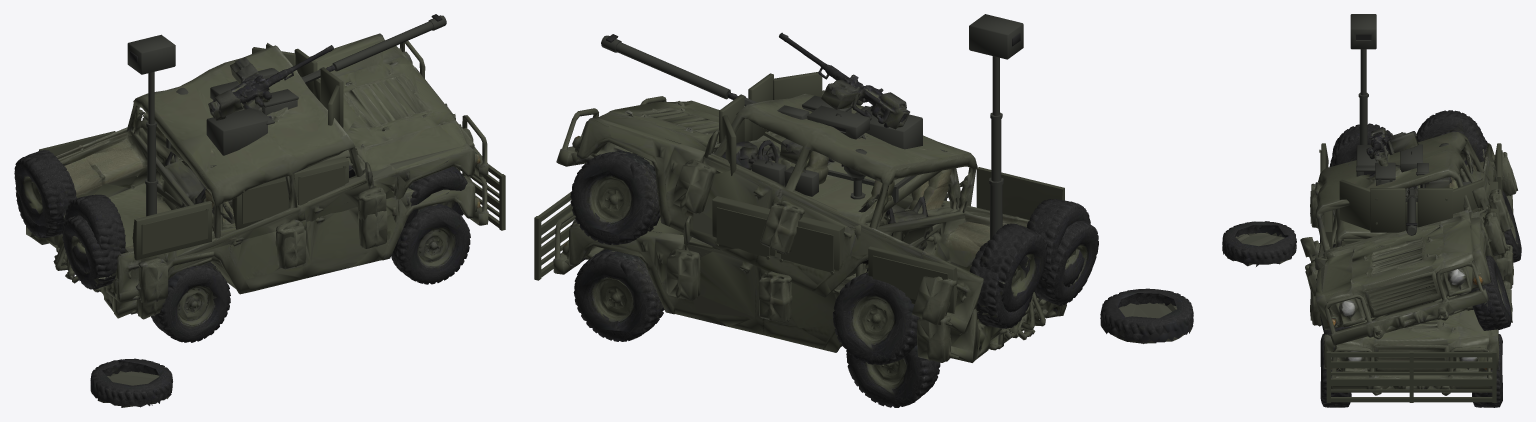
The model's file is jeep_shoded.glb.
3 renders of one model, left to right at view 1: azimuth 30°, elevation 25°; view 2: azimuth 150°, elevation 25°; view 3: azimuth 270°, elevation 25°, orthographic. The views are drawn at different scales.
Visible parts, largest first — view 1: WRECK_hull_hull, hull_rubber, WRECK_hull_rubber, hull_hull, kit_armour_3_hull_hull, kit_armour_1_hull_hull, kit_sensors_3_hull_hull, WRECK_hull_metal, kit_sensors_2_hull_hull, kit_armour_2_hull_metal, kit_firepower_3_hull_metal, kit_firepower_2_hull_metal; view 2: WRECK_hull_hull, WRECK_hull_rubber, hull_hull, hull_rubber, kit_armour_3_hull_hull, kit_armour_1_hull_hull, kit_sensors_3_hull_hull, kit_armour_2_hull_metal, WRECK_hull_metal, kit_firepower_3_hull_metal, kit_sensors_2_hull_hull, WRECK_hull_plate (+2 smaller); view 3: WRECK_hull_hull, hull_hull, WRECK_hull_rubber, kit_armour_2_hull_metal, kit_armour_3_hull_hull, hull_rubber, kit_armour_3_hull_hull_far, kit_armour_3_hull_hull_near, kit_sensors_3_hull_hull, WRECK_hull_metal, kit_firepower_3_hull_metal, kit_sensors_2_hull_hull (+5 smaller).
Boxes of the visible parts, x1=… form: WRECK_hull_hull: x1=14, y1=39, x2=484, y2=311; hull_rubber: x1=16, y1=179, x2=488, y2=342; WRECK_hull_rubber: x1=14, y1=33, x2=488, y2=407; hull_hull: x1=15, y1=119, x2=485, y2=330; kit_armour_3_hull_hull: x1=39, y1=131, x2=505, y2=260; kit_armour_1_hull_hull: x1=142, y1=118, x2=348, y2=229; kit_sensors_3_hull_hull: x1=127, y1=34, x2=175, y2=216; WRECK_hull_metal: x1=208, y1=45, x2=333, y2=120; kit_sensors_2_hull_hull: x1=166, y1=108, x2=274, y2=167; kit_armour_2_hull_metal: x1=252, y1=47, x2=343, y2=127; kit_firepower_3_hull_metal: x1=210, y1=14, x2=446, y2=99; kit_firepower_2_hull_metal: x1=254, y1=67, x2=325, y2=115; WRECK_hull_hull: x1=567, y1=90, x2=1098, y2=362; WRECK_hull_rubber: x1=556, y1=99, x2=1193, y2=364; hull_hull: x1=559, y1=134, x2=1090, y2=393; hull_rubber: x1=553, y1=203, x2=1029, y2=407; kit_armour_3_hull_hull: x1=534, y1=167, x2=1064, y2=313; kit_armour_1_hull_hull: x1=712, y1=196, x2=946, y2=274; kit_sensors_3_hull_hull: x1=969, y1=14, x2=1023, y2=239; kit_armour_2_hull_metal: x1=719, y1=71, x2=822, y2=175; WRECK_hull_metal: x1=779, y1=32, x2=909, y2=129; kit_firepower_3_hull_metal: x1=601, y1=34, x2=869, y2=139; kit_sensors_2_hull_hull: x1=807, y1=105, x2=947, y2=202; WRECK_hull_plate: x1=760, y1=200, x2=804, y2=254; WRECK_hull_hull: x1=1300, y1=110, x2=1505, y2=344; hull_hull: x1=1311, y1=123, x2=1507, y2=407; WRECK_hull_rubber: x1=1222, y1=143, x2=1521, y2=349; kit_armour_2_hull_metal: x1=1339, y1=179, x2=1483, y2=232; kit_armour_3_hull_hull: x1=1319, y1=143, x2=1502, y2=402; hull_rubber: x1=1310, y1=182, x2=1513, y2=407; kit_armour_3_hull_hull_far: x1=1331, y1=361, x2=1492, y2=385; kit_armour_3_hull_hull_near: x1=1331, y1=364, x2=1492, y2=392; kit_sensors_3_hull_hull: x1=1350, y1=14, x2=1376, y2=144; WRECK_hull_metal: x1=1366, y1=128, x2=1418, y2=166; kit_firepower_3_hull_metal: x1=1400, y1=144, x2=1422, y2=235; kit_sensors_2_hull_hull: x1=1348, y1=145, x2=1417, y2=201.
Size of the model in its own units: 5.41 by 3.38 by 3.43.
Materials: 1 (1 with a texture image).
